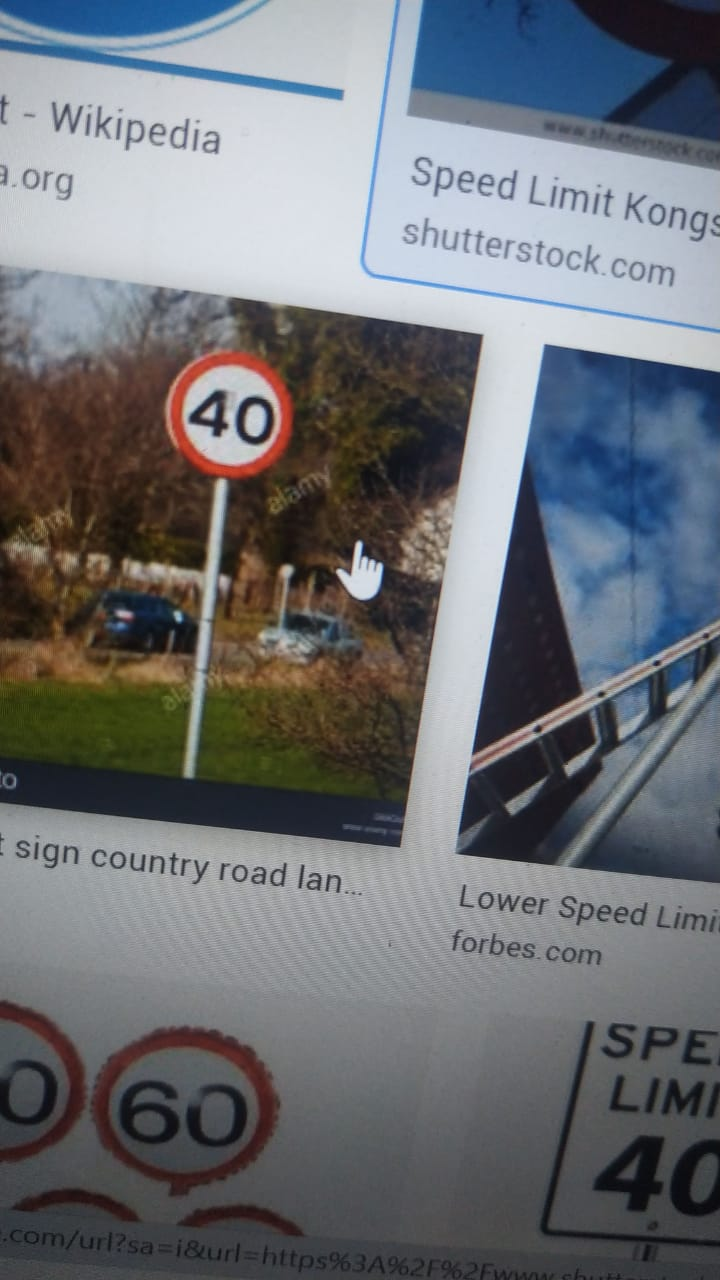SPEED LIMIT(40 KM/H): (166, 322, 335, 526)
SPEED LIMIT(60 KM/H): (62, 976, 321, 1211)
